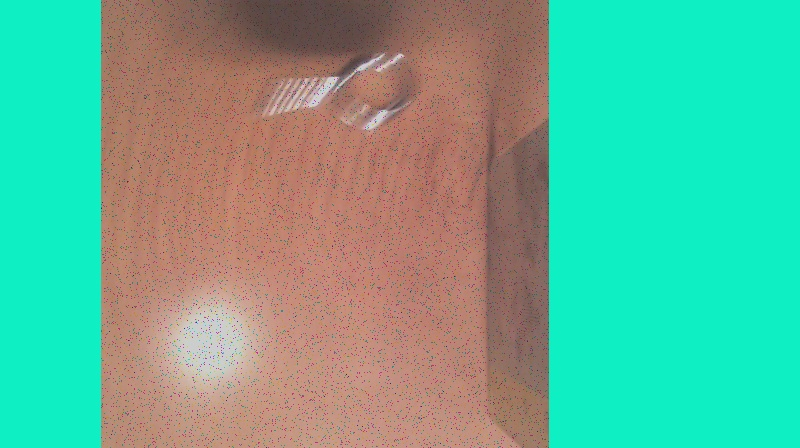O001: (254, 36, 426, 138)
